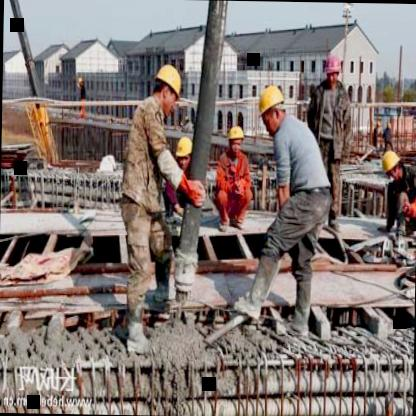helmet: (150, 60, 184, 115), (256, 80, 287, 134), (174, 130, 195, 174), (324, 46, 344, 89), (225, 119, 245, 160), (380, 147, 404, 179)
